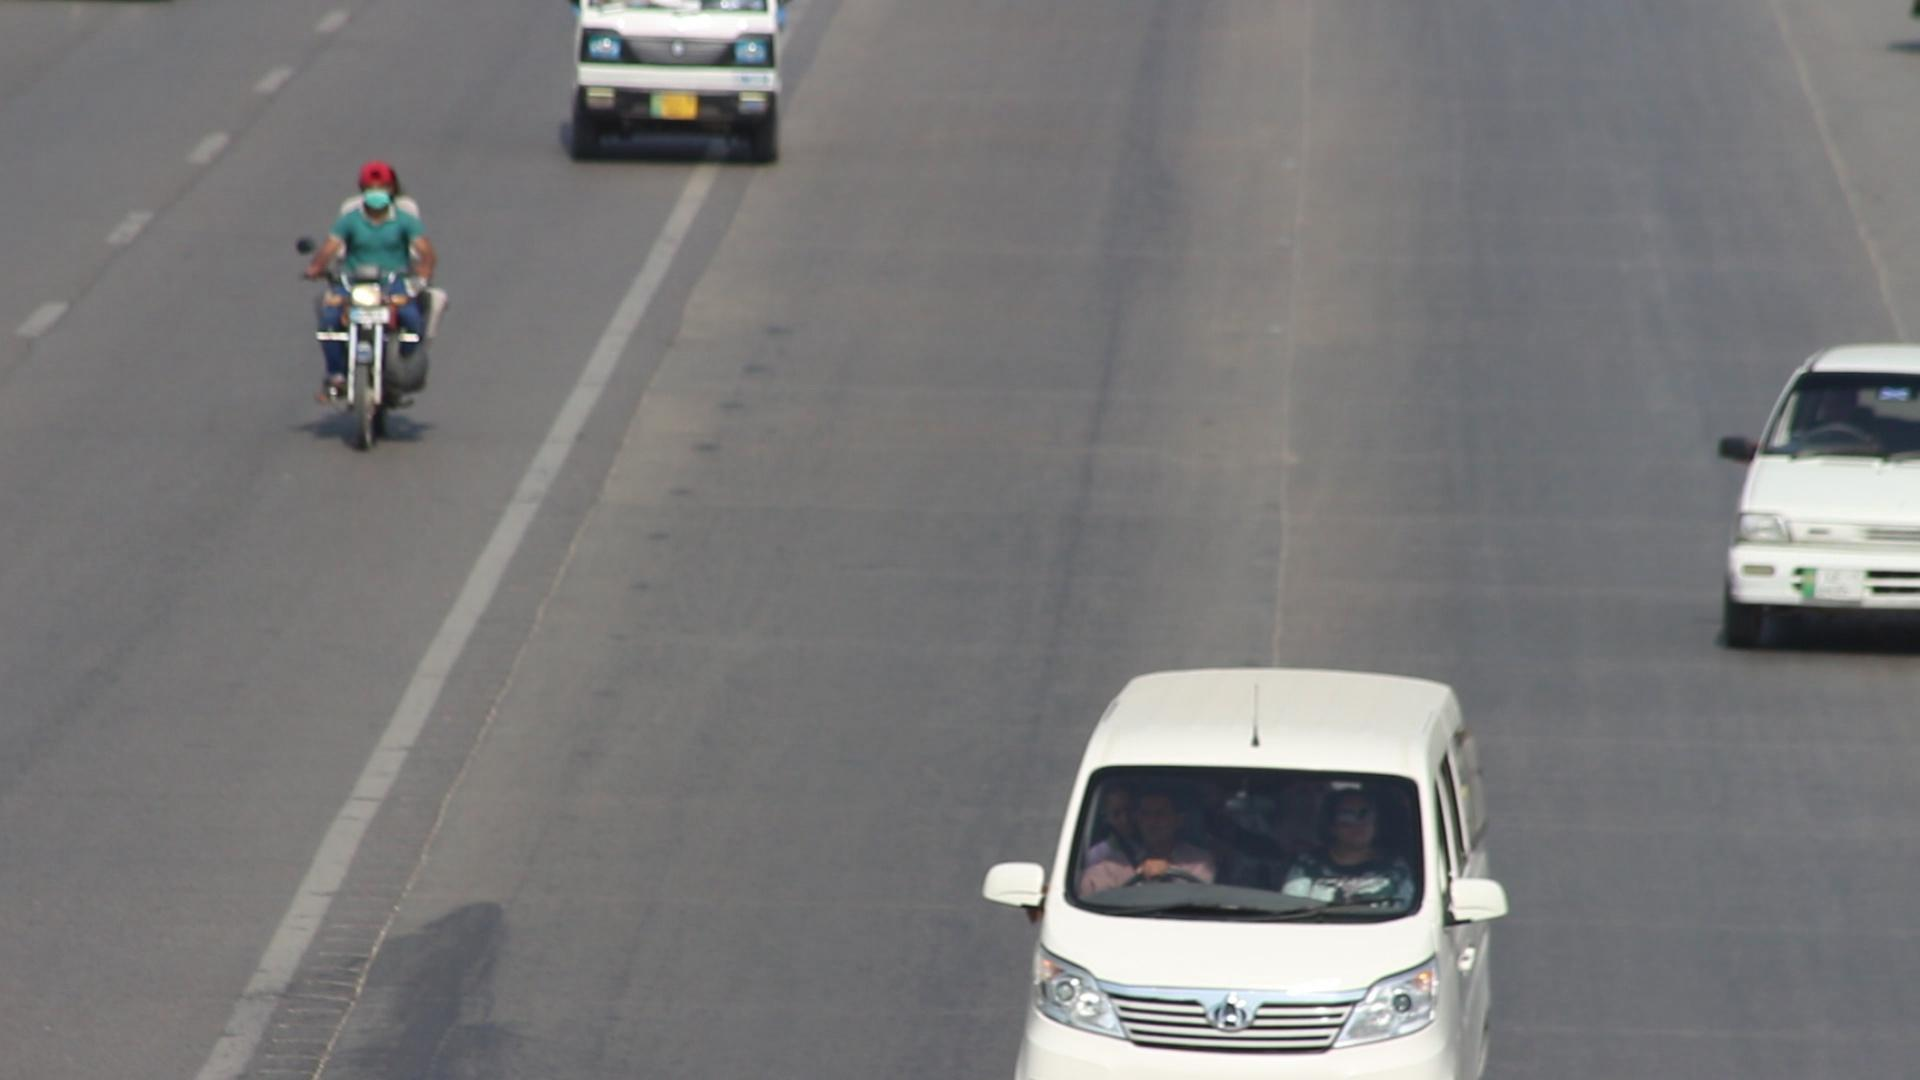windshield: (1047, 746, 1427, 934)
